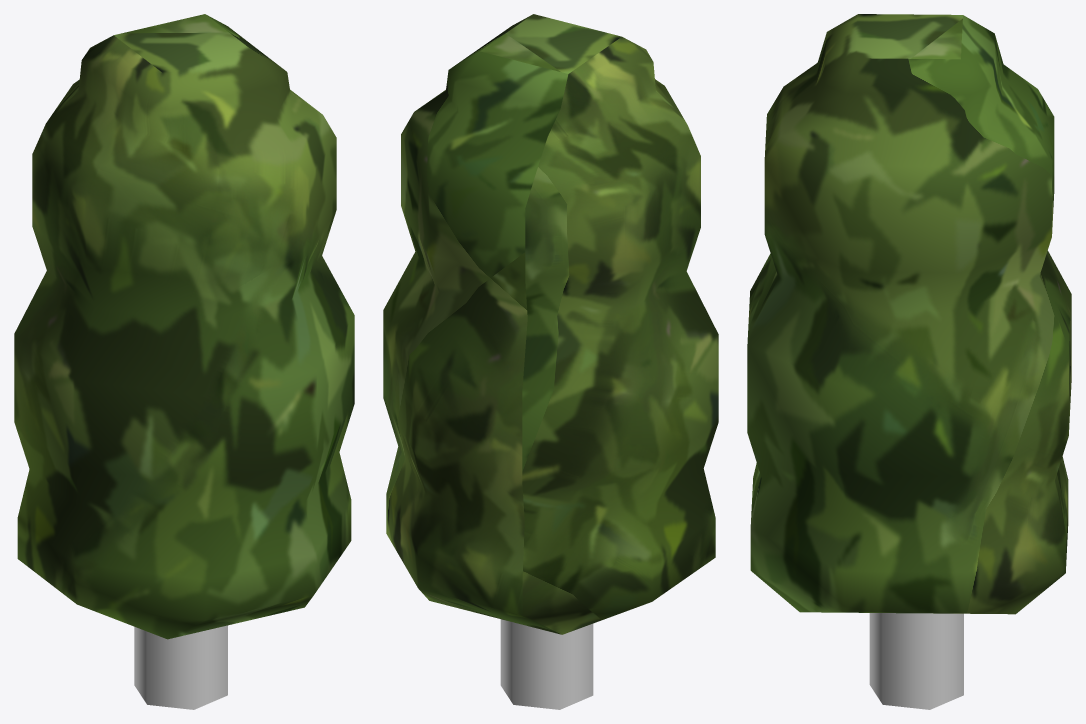
Rendered from Tree.FBX.
3 views of the same model, side by side, from view 1: azimuth 30°, elevation 25°; view 2: azimuth 150°, elevation 25°; view 3: azimuth 270°, elevation 25° (orthographic).
Visible parts, largest first — view 1: tree010, trunk010; view 2: tree010, trunk010; view 3: tree010, trunk010.
Part boxes in pixels (box(x1,y1,x2,y2)): tree010: box(14, 14, 354, 639); trunk010: box(134, 625, 227, 709); tree010: box(383, 14, 718, 634); trunk010: box(500, 619, 593, 709); tree010: box(747, 14, 1071, 614); trunk010: box(869, 613, 963, 709).
Size of the model in its own units: 185 by 412 by 185.
1 material, 1 textured.
